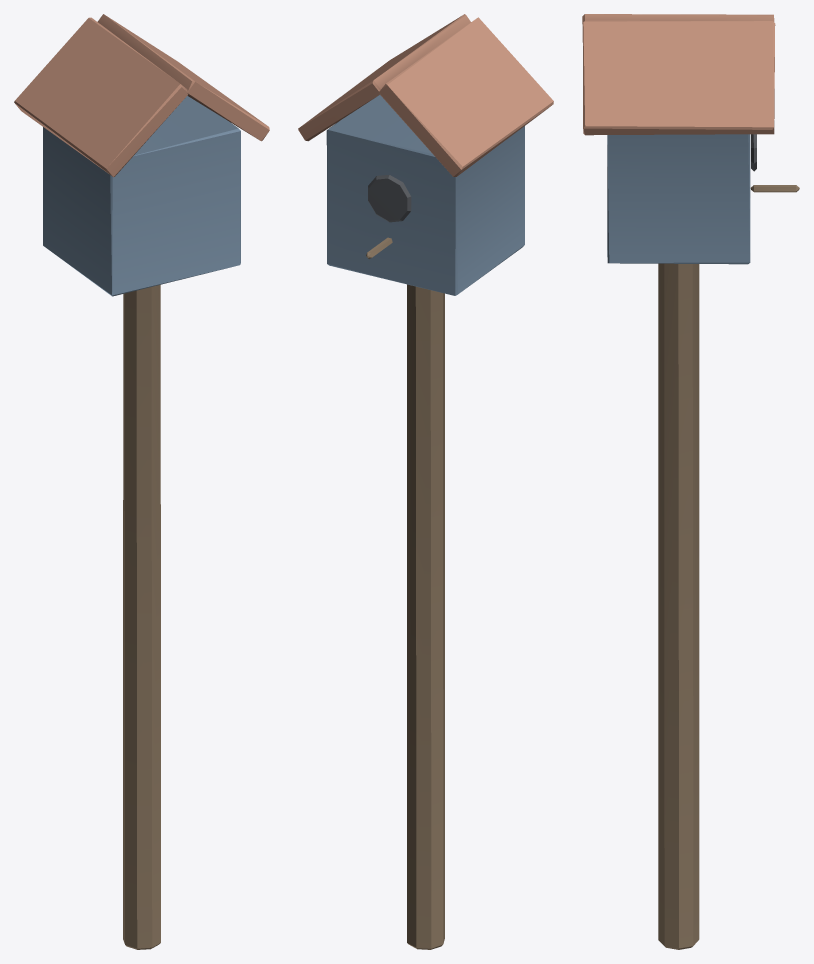
Rendered from birdhouse_low.glb.
The picture shows the model from 3 angles, left to right: view 1: azimuth 30°, elevation 25°; view 2: azimuth 150°, elevation 25°; view 3: azimuth 270°, elevation 25°; orthographic projection. The views are drawn at different scales.
Size of the model in its own units: 0.3265 by 1.69 by 0.3606.
